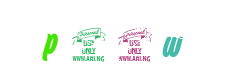6: (80, 0, 160, 80), (82, 0, 162, 80)
P: (10, 0, 90, 80)
W: (94, 0, 174, 80)
